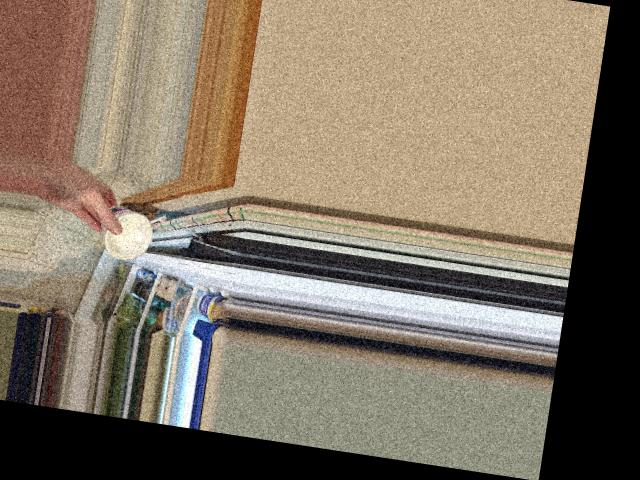cotage: (91, 195, 159, 264)
